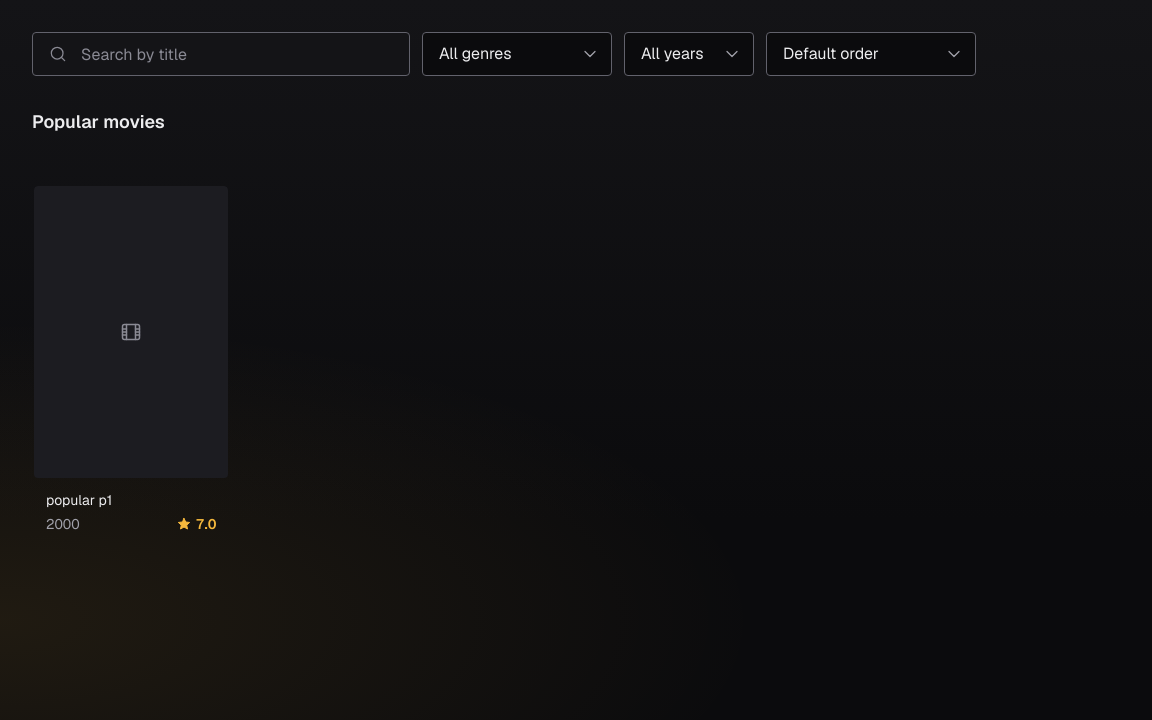
Test case: ExplorerClient — filters › combines genre, year and sort instead of replacing each other (RF-5)
The width and height of the screenshot is (1152, 720).
Expected: the heading "popular p1" is shown, top-left (46, 491), bottom-right (112, 509)
Select "Drama" in the 1st dropdown named "Genre" at (517, 54), box top-left (422, 32), bottom-right (612, 76)
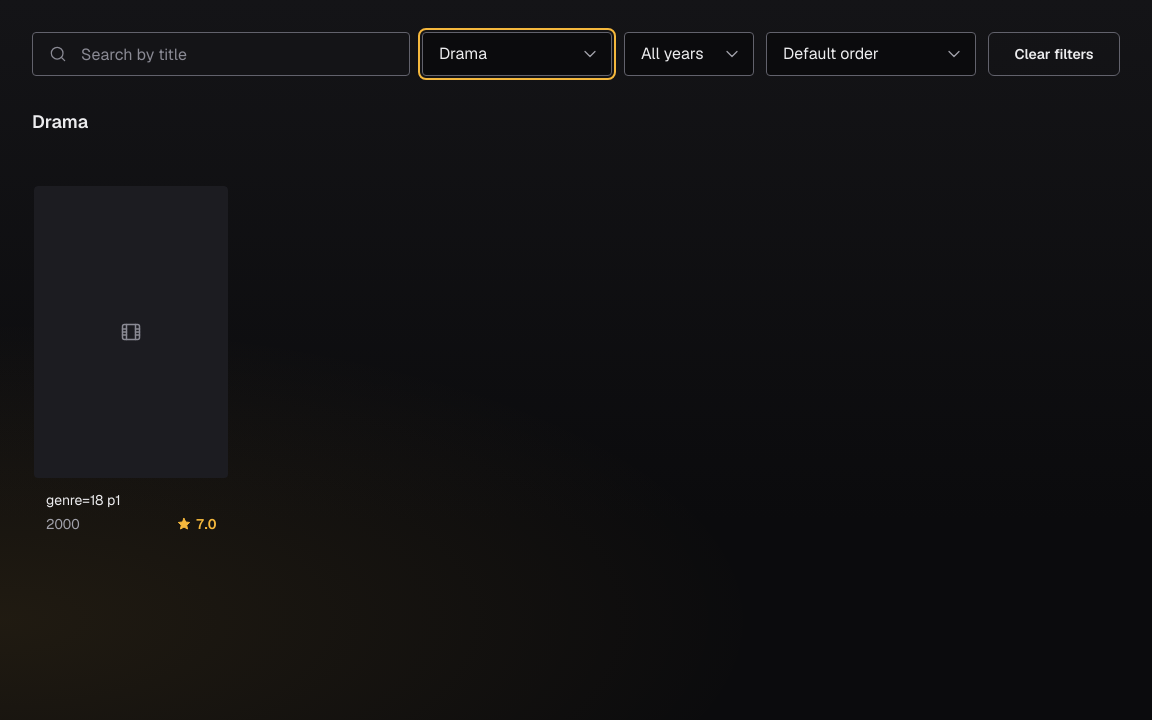
Select "1999" in the 2nd dropdown named "Year" at (689, 54), box top-left (624, 32), bottom-right (754, 76)
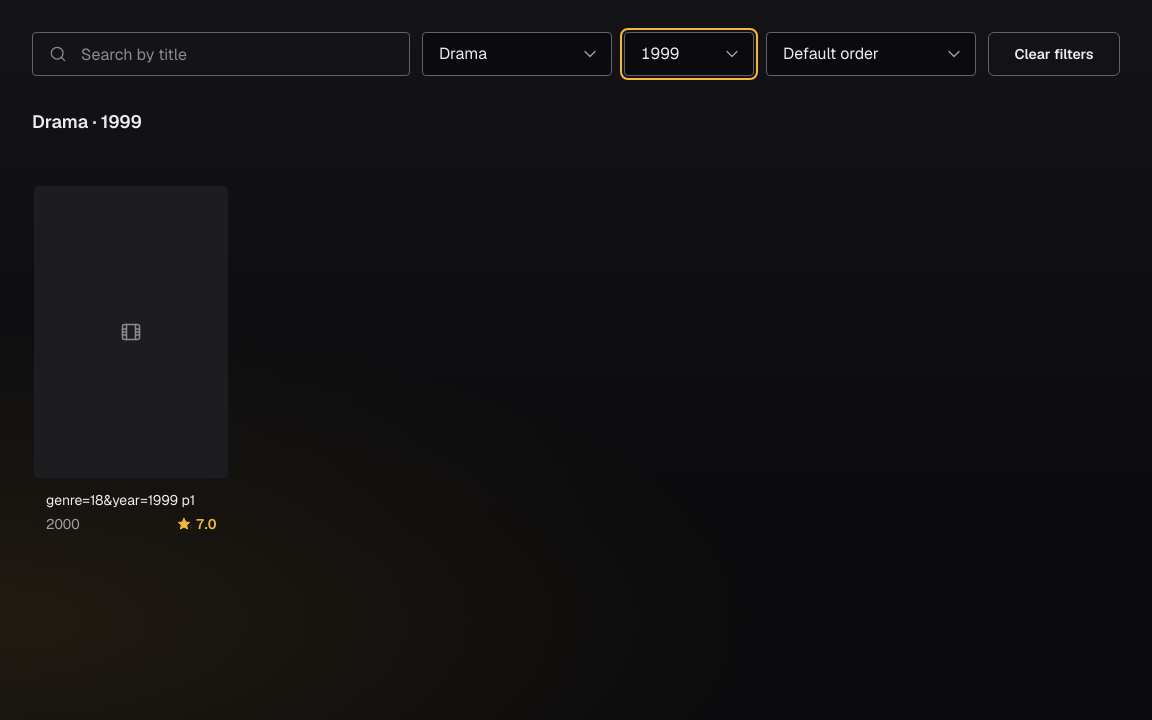
Select "Highest rated" in the 3rd dropdown named "Sort by" at (871, 54), box top-left (766, 32), bottom-right (976, 76)
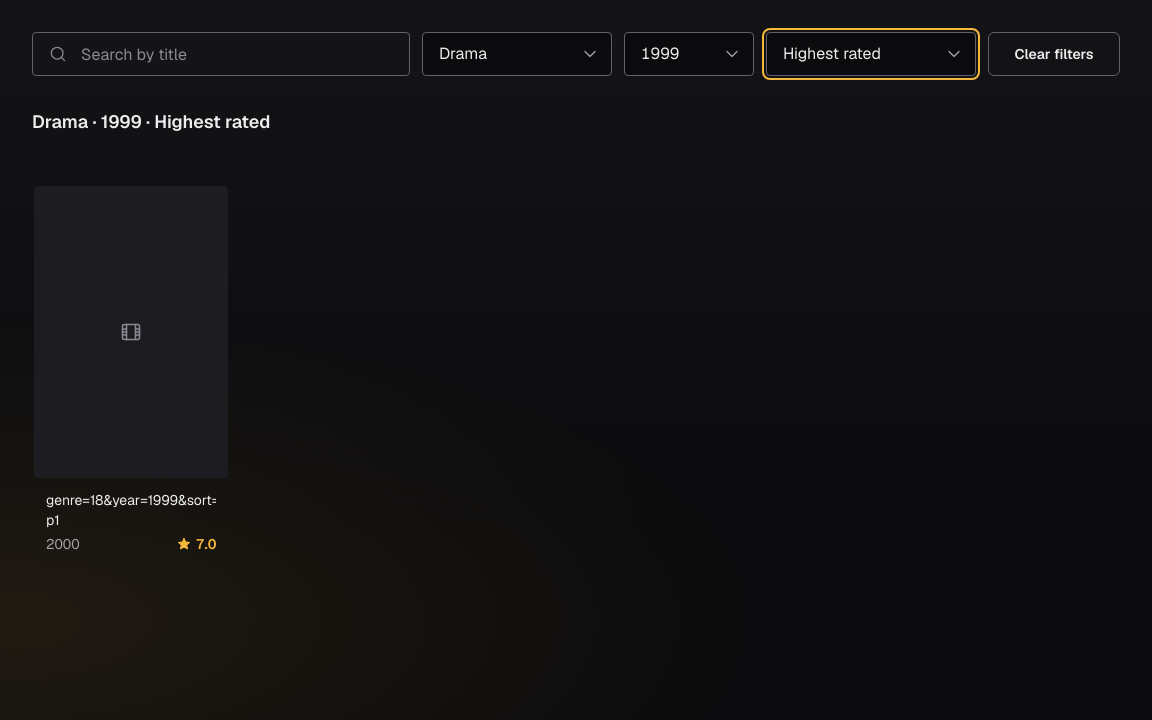
Now the heading "genre=18&year=1999&sort=vote_average.desc p1" is shown, box top-left (46, 490), bottom-right (216, 530)
